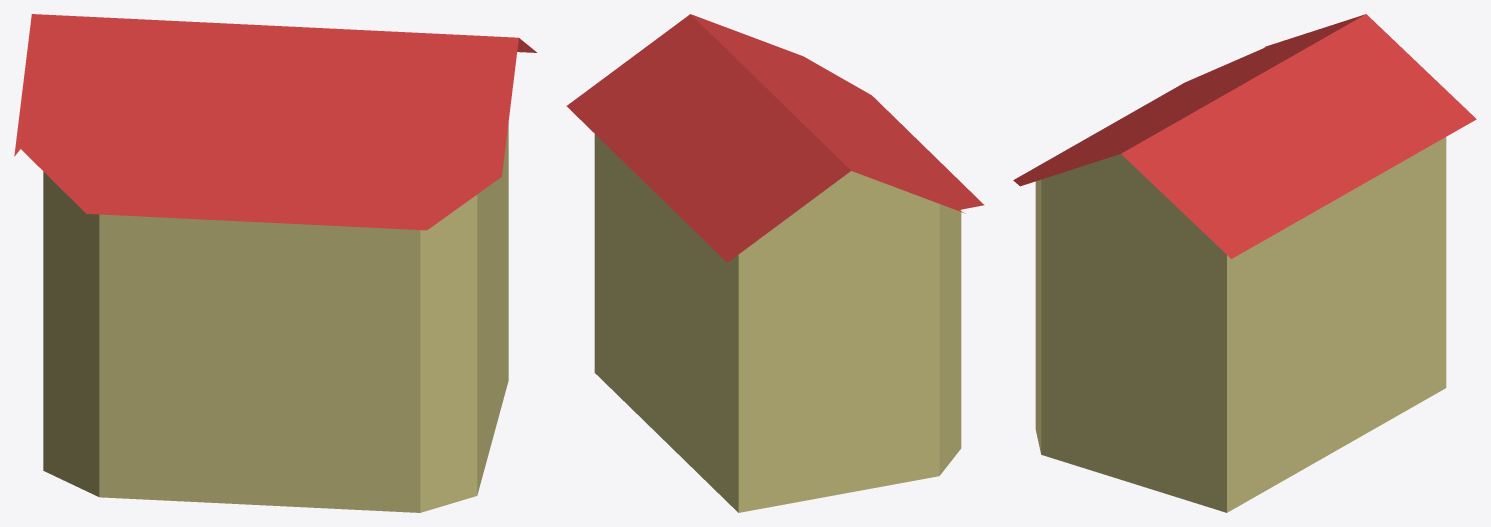
3 renders of one model, left to right at view 1: azimuth 30°, elevation 25°; view 2: azimuth 150°, elevation 25°; view 3: azimuth 270°, elevation 25°, orthographic. The views are drawn at different scales.
Bounding box in the file's own units: 16.7 × 15.82 × 12.7.
